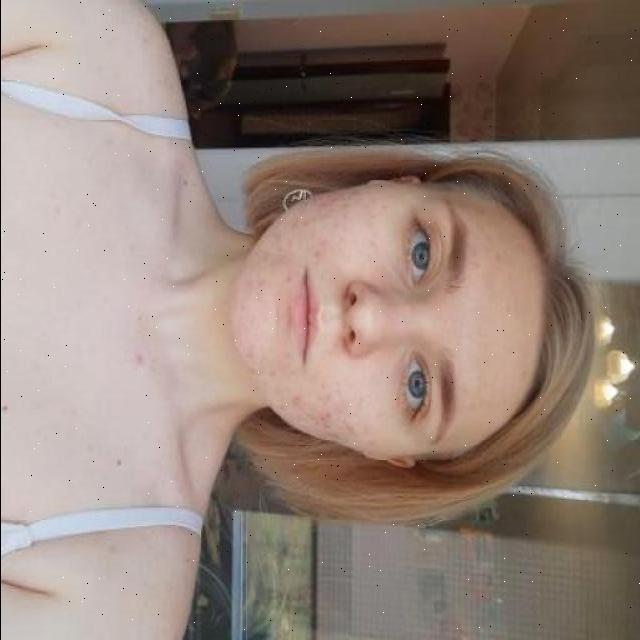Acne: (274, 190, 396, 279), (274, 382, 381, 451), (241, 258, 272, 380)
